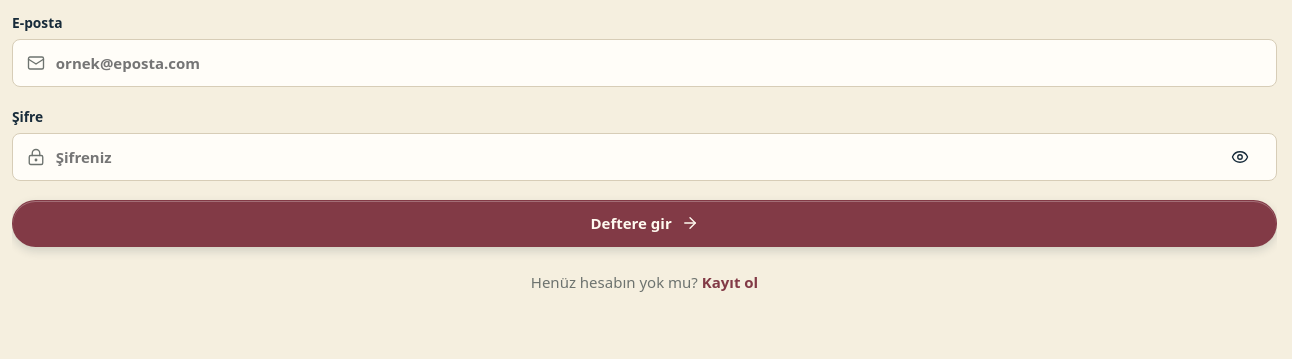
auth task priority and errors › associates validation messages with invalid inputs
This screenshot has width=1292, height=359.
Click the button "Deftere gir" at (644, 223), box [12, 200, 1277, 247]
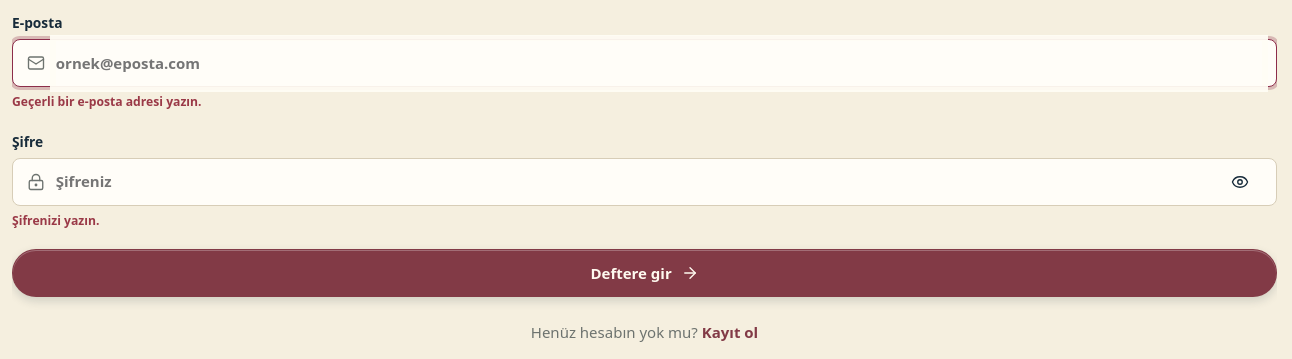
Now the message with id "auth-email-error" shows "e-posta", box [12, 94, 202, 110]
